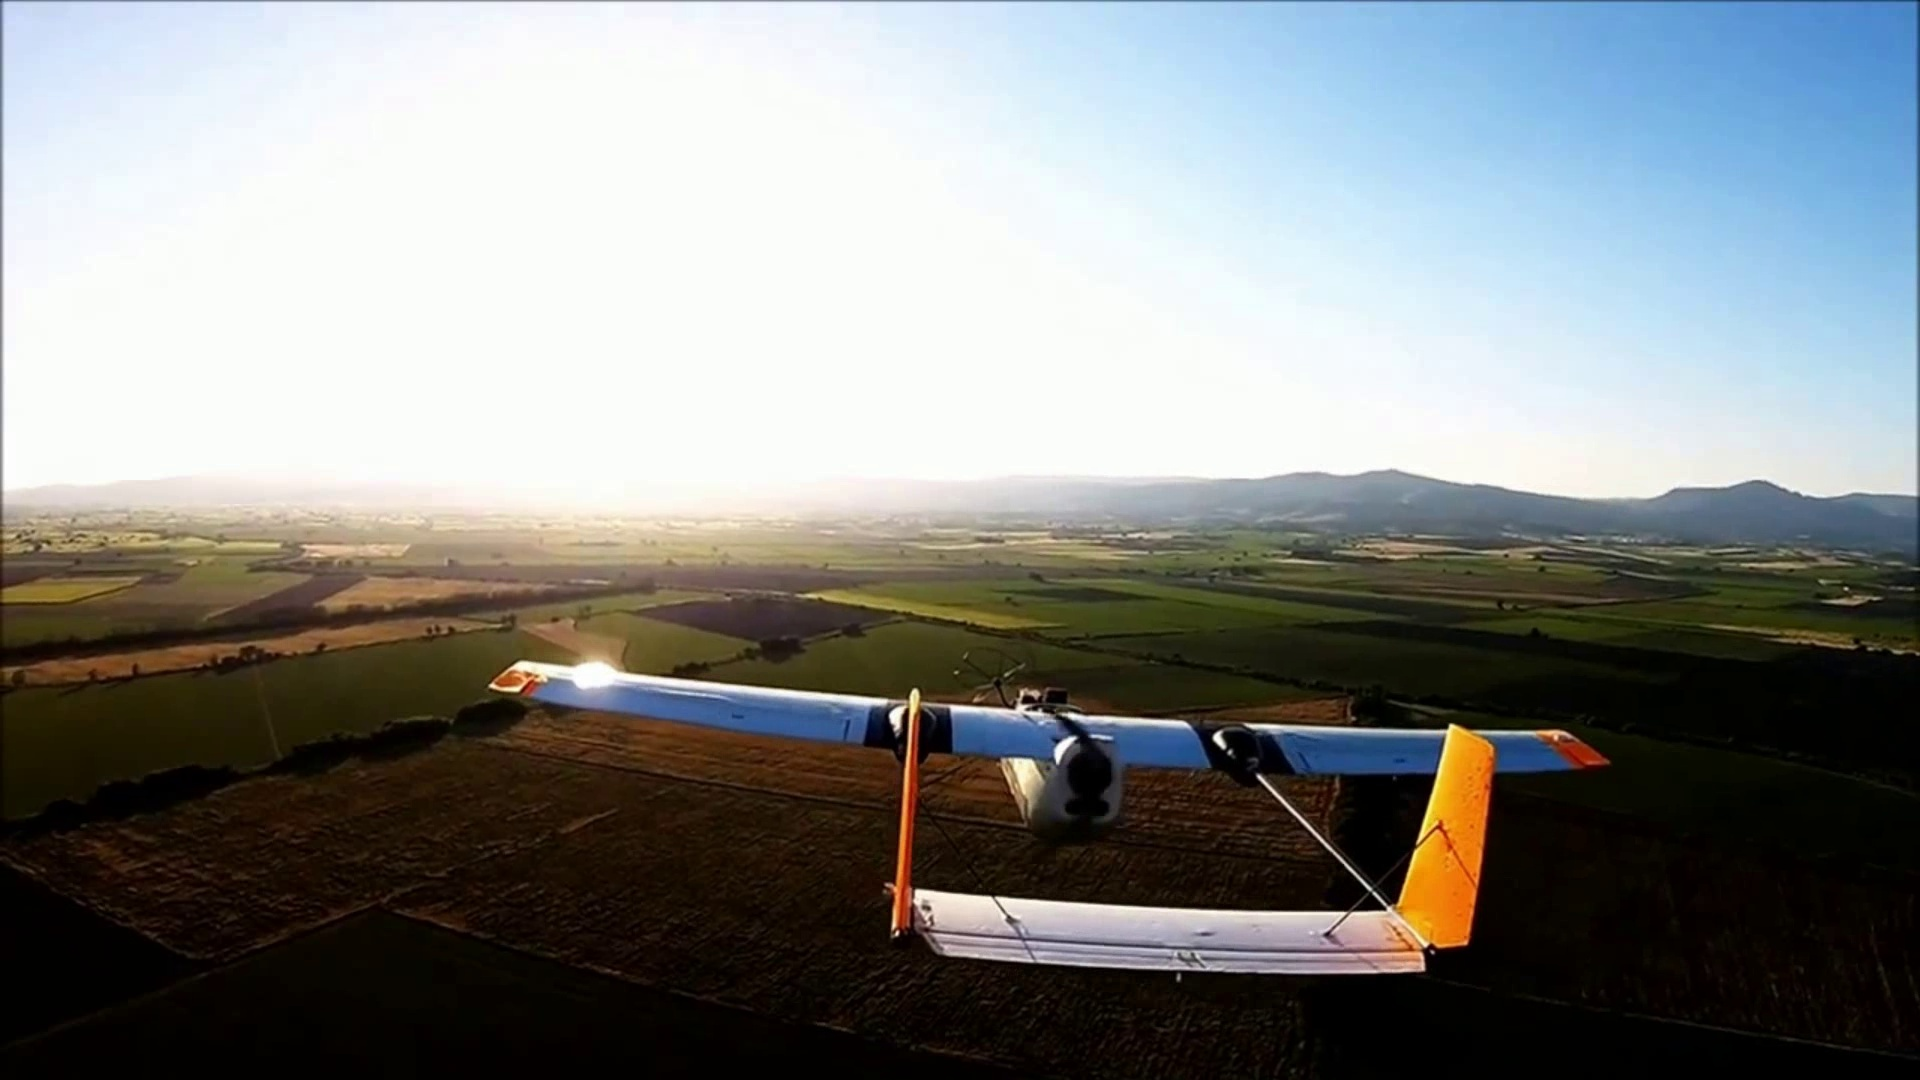airplane: (491, 646, 1610, 976)
